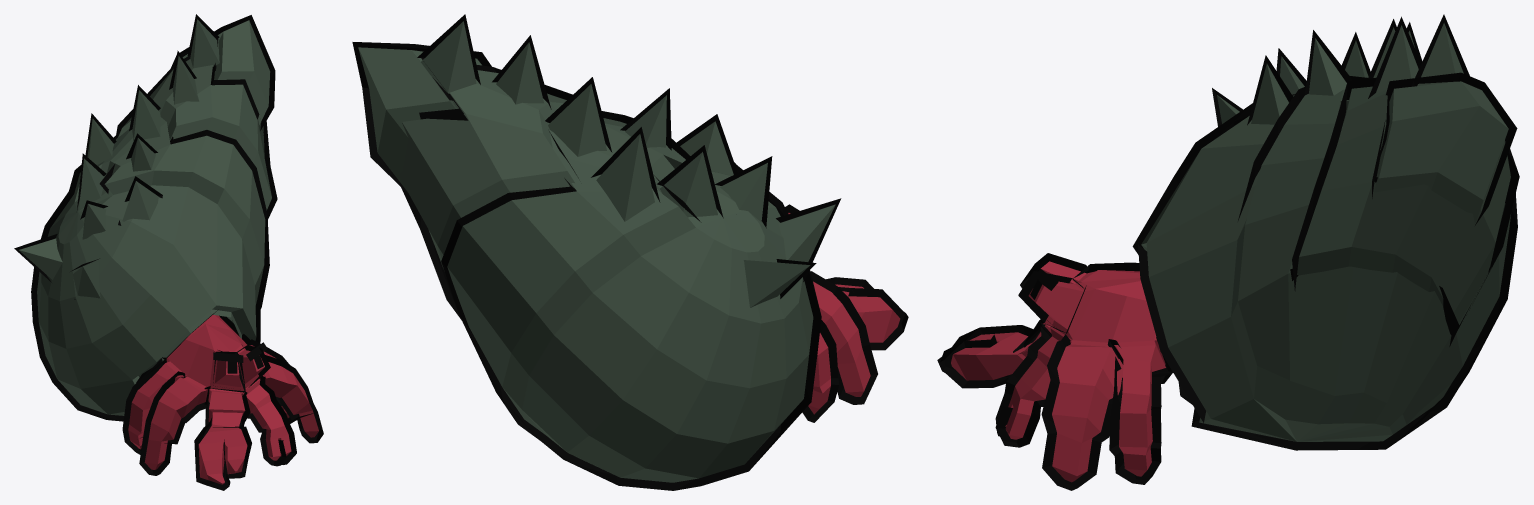
The model's file is final_hermit.fbx.
3 views of the same model, side by side, from view 1: azimuth 30°, elevation 25°; view 2: azimuth 150°, elevation 25°; view 3: azimuth 270°, elevation 25° (orthographic). The views are drawn at different scales.
Parts seen in each view (by area): view 1: Cone, Sphere, Plane.001; view 2: Cone, Sphere; view 3: Cone, Sphere.
Boxes of the visible parts, box(x1,y1,x2,y2) form: Cone: box(14, 14, 277, 421); Sphere: box(122, 315, 323, 490); Plane.001: box(213, 342, 267, 362); Cone: box(352, 14, 841, 490); Sphere: box(785, 204, 908, 422); Cone: box(1132, 14, 1519, 450); Sphere: box(937, 253, 1172, 490).
Bounding box in the file's own units: 277 × 305 × 325.
